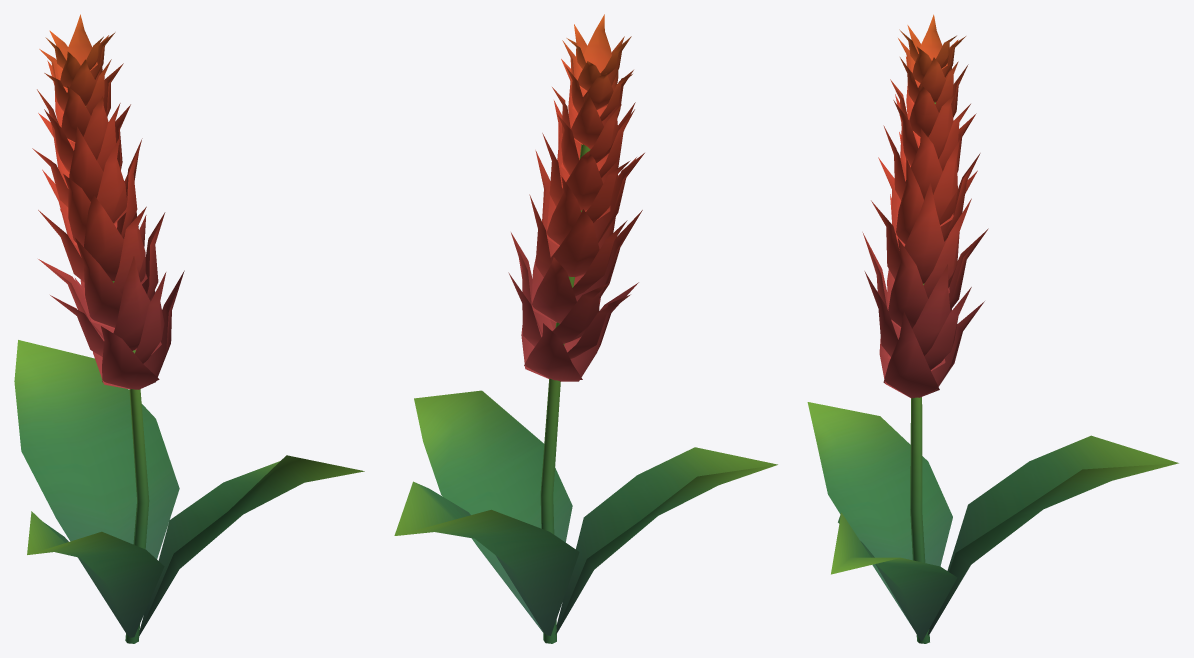
Rendered from flower_031_base_material_0.fbx.
The picture shows the model from 3 angles, left to right: view 1: azimuth 30°, elevation 25°; view 2: azimuth 150°, elevation 25°; view 3: azimuth 270°, elevation 25°; orthographic projection. The views are drawn at different scales.
Parts seen in each view (by area): view 1: flower_031_base_material_0; view 2: flower_031_base_material_0; view 3: flower_031_base_material_0.
Boxes of the visible parts, x1,y1,x2,y2 form: flower_031_base_material_0: [14, 14, 364, 643]; flower_031_base_material_0: [394, 14, 777, 643]; flower_031_base_material_0: [807, 14, 1178, 643].
Bounding box in the file's own units: 2.18 × 2.11 × 3.72.
Materials: 1 (1 with a texture image).
